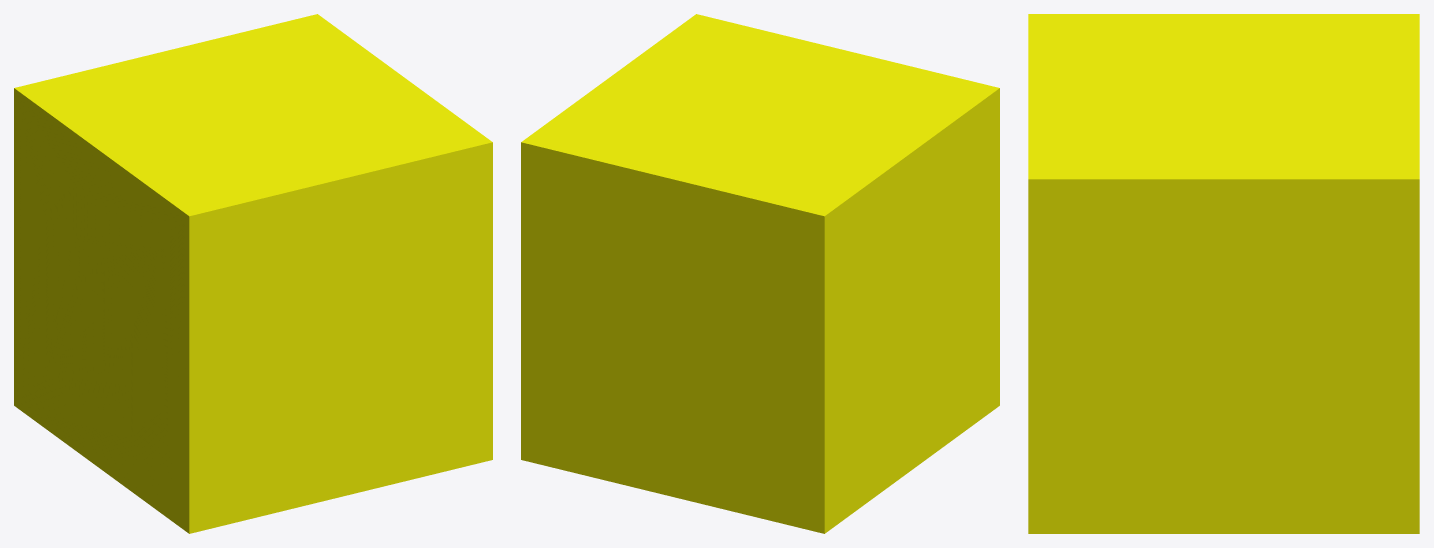
File: voxel-village-crate.glb
The picture shows the model from 3 angles, left to right: view 1: azimuth 30°, elevation 25°; view 2: azimuth 150°, elevation 25°; view 3: azimuth 270°, elevation 25°; orthographic projection. The views are drawn at different scales.
Visible parts, largest first — view 1: VS_Villagers_Crate; view 2: VS_Villagers_Crate; view 3: VS_Villagers_Crate.
Boxes of the visible parts, bbox=[...] form: VS_Villagers_Crate: bbox=[14, 14, 492, 533]; VS_Villagers_Crate: bbox=[521, 14, 999, 533]; VS_Villagers_Crate: bbox=[1028, 14, 1419, 533].
Size of the model in its own units: 0.6 by 0.6 by 0.6.
